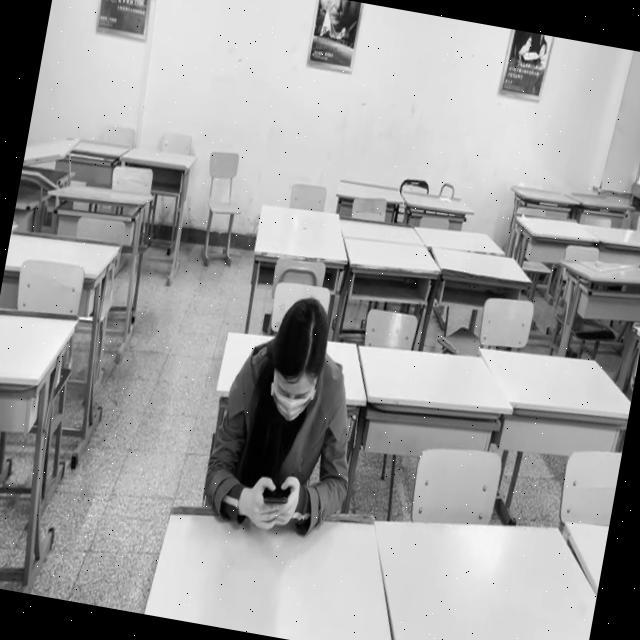phone: (197, 285, 380, 546)
